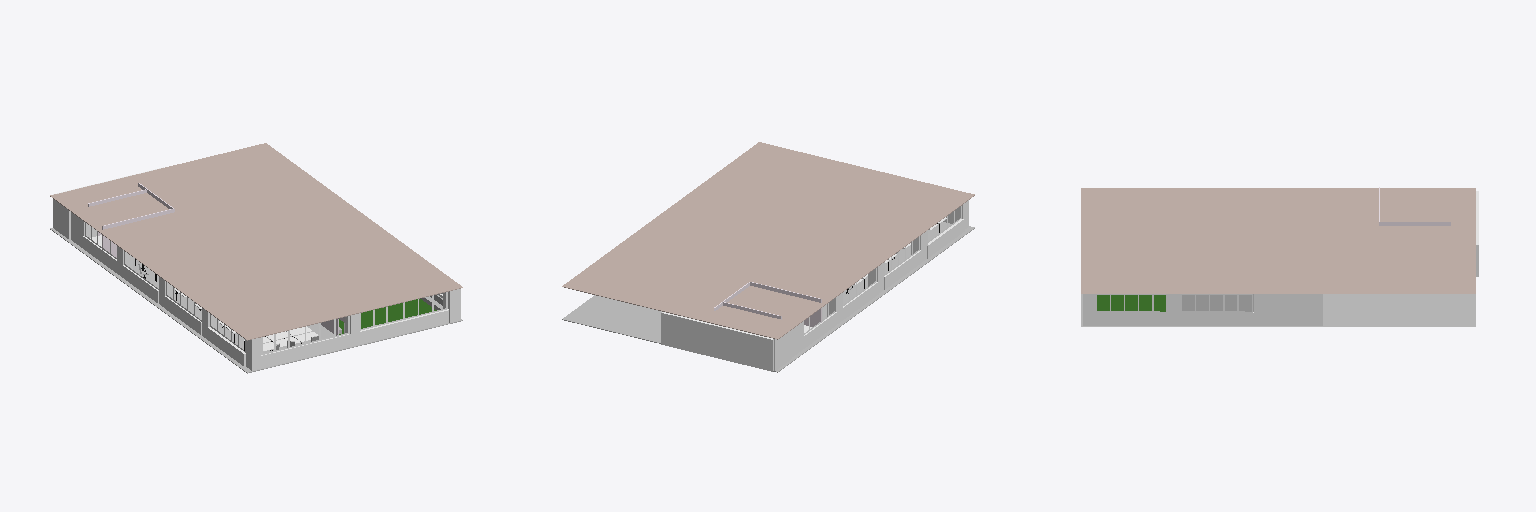
3 renders of one model, left to right at view 1: azimuth 30°, elevation 25°; view 2: azimuth 150°, elevation 25°; view 3: azimuth 270°, elevation 25°, orthographic.
Visible parts, largest first — view 1: Techo_Cube.029, pared, comunicacion_Cylinder.026; view 2: Techo_Cube.029, pared; view 3: Techo_Cube.029, pared.
Boxes of the visible parts, x1,y1,x2,y2 form: Techo_Cube.029: [50, 143, 462, 340]; pared: [50, 167, 462, 373]; comunicacion_Cylinder.026: [244, 326, 317, 351]; Techo_Cube.029: [562, 142, 974, 339]; pared: [562, 200, 974, 372]; Techo_Cube.029: [1081, 188, 1475, 293]; pared: [1081, 191, 1478, 326].
Size of the model in its own units: 9.76 by 1.61 by 15.54.
Materials: 17 (2 with a texture image).